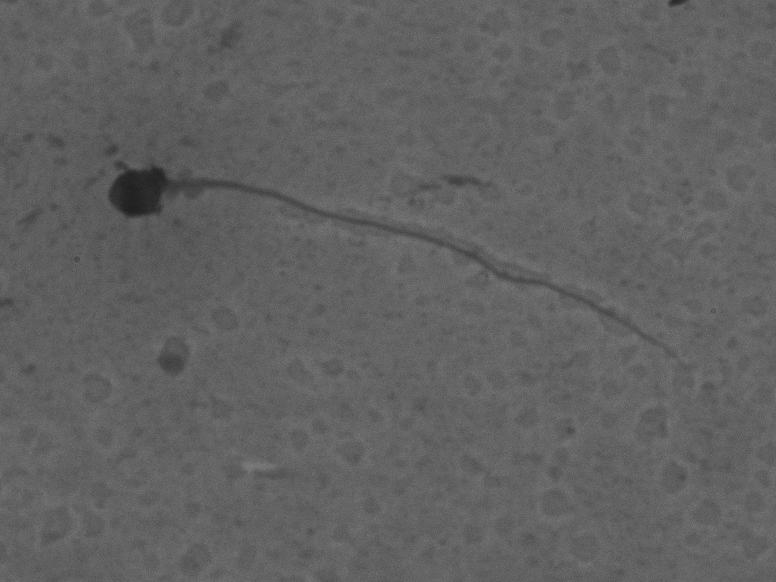Abnormal: (96, 125, 687, 397)
